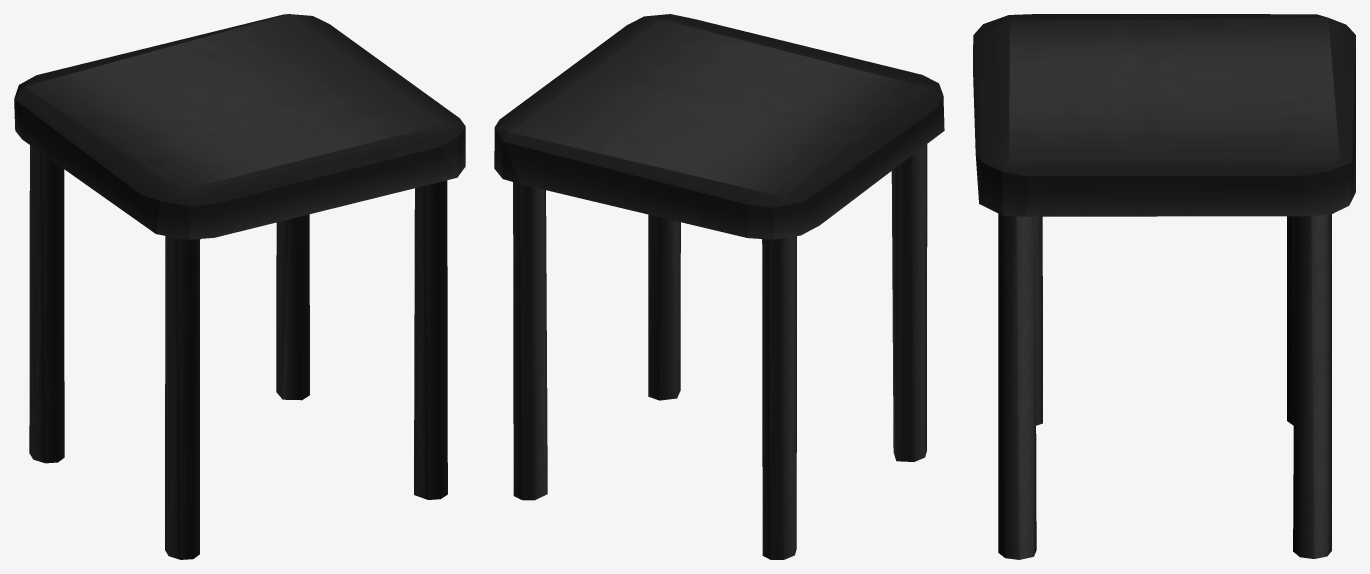
The model's file is PIANO_BENCH_001.fbx.
The picture shows the model from 3 angles, left to right: view 1: azimuth 30°, elevation 25°; view 2: azimuth 150°, elevation 25°; view 3: azimuth 270°, elevation 25°; orthographic projection. The views are drawn at different scales.
Visible parts, largest first — view 1: PIANO_BENCH.001; view 2: PIANO_BENCH.001; view 3: PIANO_BENCH.001.
Boxes of the visible parts, box(x1,y1,x2,y2) form: PIANO_BENCH.001: box(14, 14, 465, 559); PIANO_BENCH.001: box(494, 14, 944, 559); PIANO_BENCH.001: box(973, 14, 1355, 559).
Bounding box in the file's own units: 46.93 × 52.56 × 45.62.
